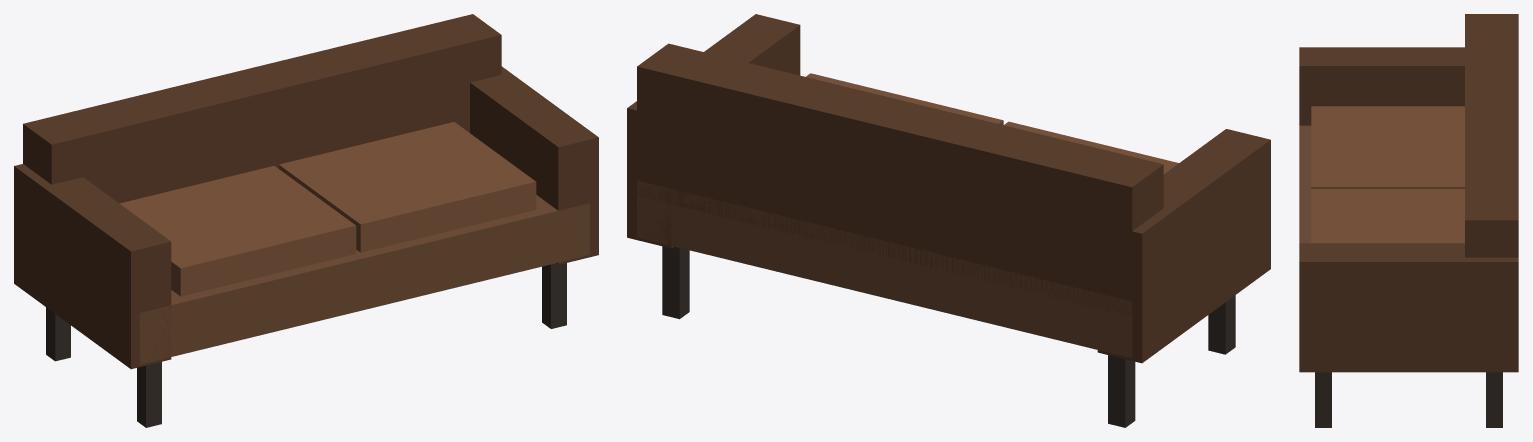
File: sofa_leather.glb
3 renders of one model, left to right at view 1: azimuth 30°, elevation 25°; view 2: azimuth 150°, elevation 25°; view 3: azimuth 270°, elevation 25°, orthographic. The views are drawn at different scales.
Visible parts, largest first — view 1: sofa_leather; view 2: sofa_leather; view 3: sofa_leather.
Boxes of the visible parts, x1=… form: sofa_leather: x1=14, y1=14, x2=598, y2=427; sofa_leather: x1=627, y1=14, x2=1270, y2=427; sofa_leather: x1=1299, y1=14, x2=1518, y2=427.
Size of the model in its own units: 2.08 by 0.97 by 0.9.
